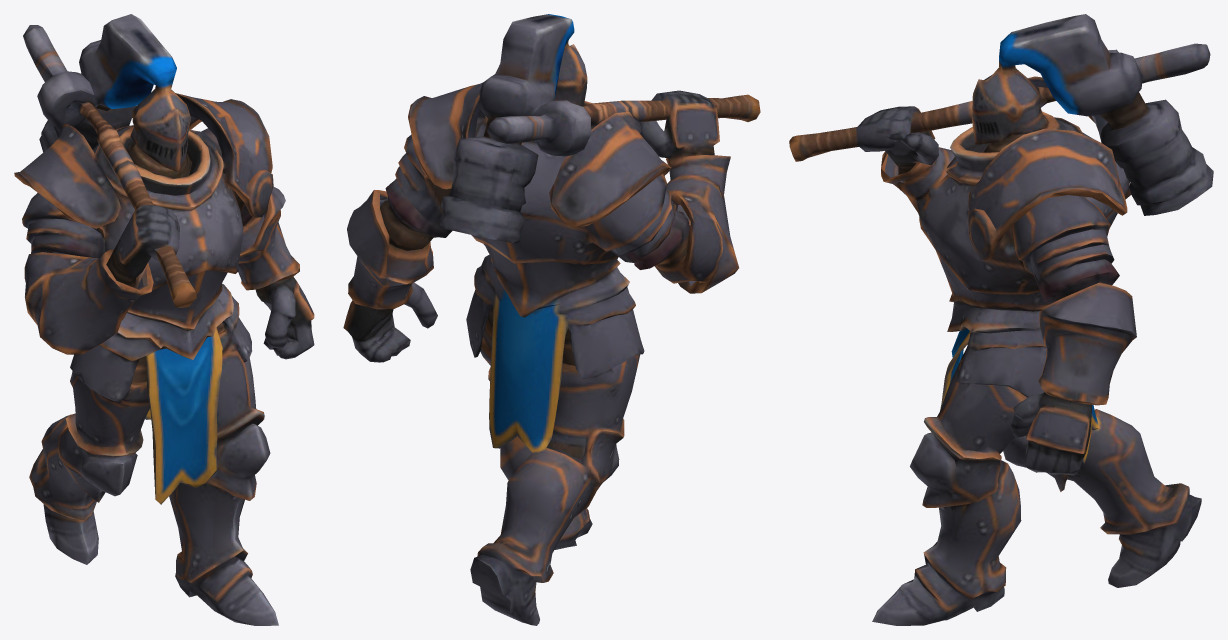
The model's file is iron_colossus_march.glb.
3 renders of one model, left to right at view 1: azimuth 30°, elevation 25°; view 2: azimuth 150°, elevation 25°; view 3: azimuth 270°, elevation 25°, orthographic. The views are drawn at different scales.
Visible parts, largest first — view 1: world; view 2: world; view 3: world.
Boxes of the visible parts, <box> form: world: <box>14,14,314,625</box>; world: <box>343,14,760,625</box>; world: <box>789,14,1213,625</box>.
Bounding box in the file's own units: 0.6035 × 0.9997 × 0.6665.
Materials: 1 (1 with a texture image).
